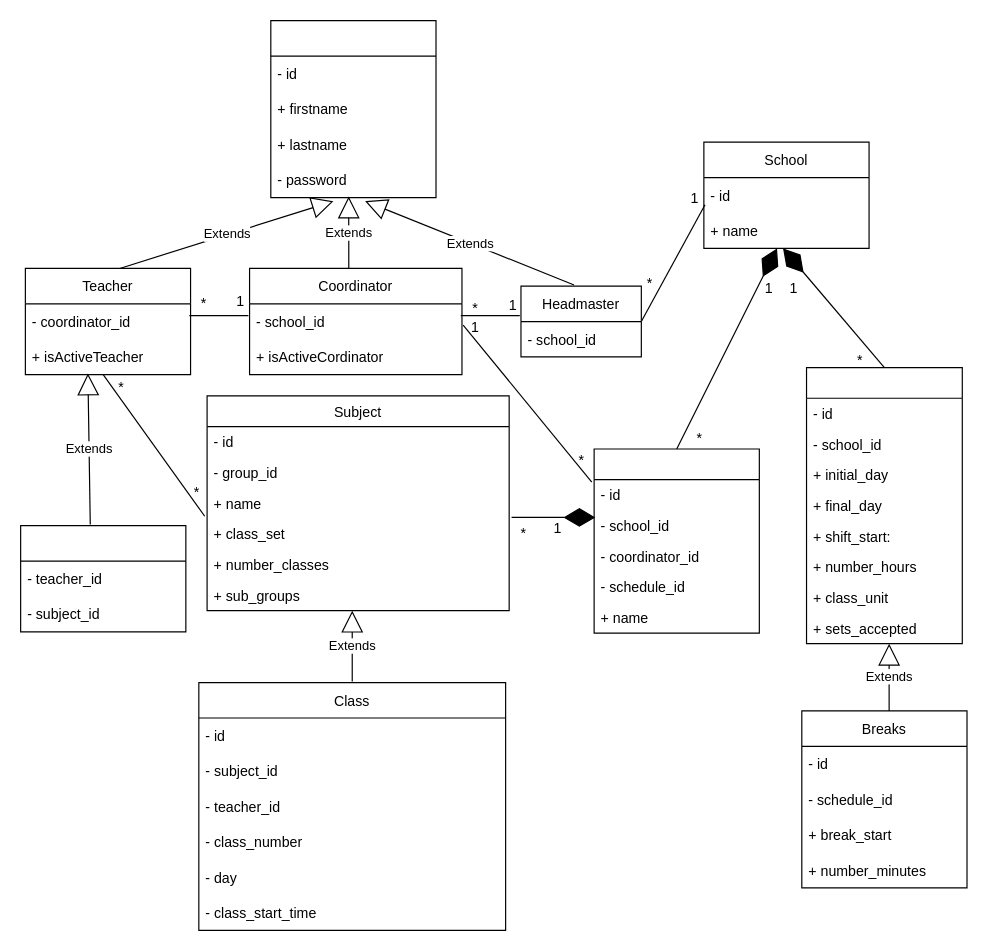
Image size: 988x951. Some labels were removed from this diagram. The box of each missing label's shape, as (x1, y1, x2, y2) in pixels:
Assignable_subjects: (19, 525, 186, 632)
Group: (593, 448, 759, 633)
Schedule: (805, 366, 962, 644)
User: (270, 19, 436, 198)
